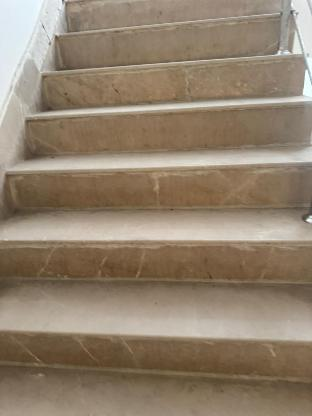stair: (16, 0, 301, 416)
